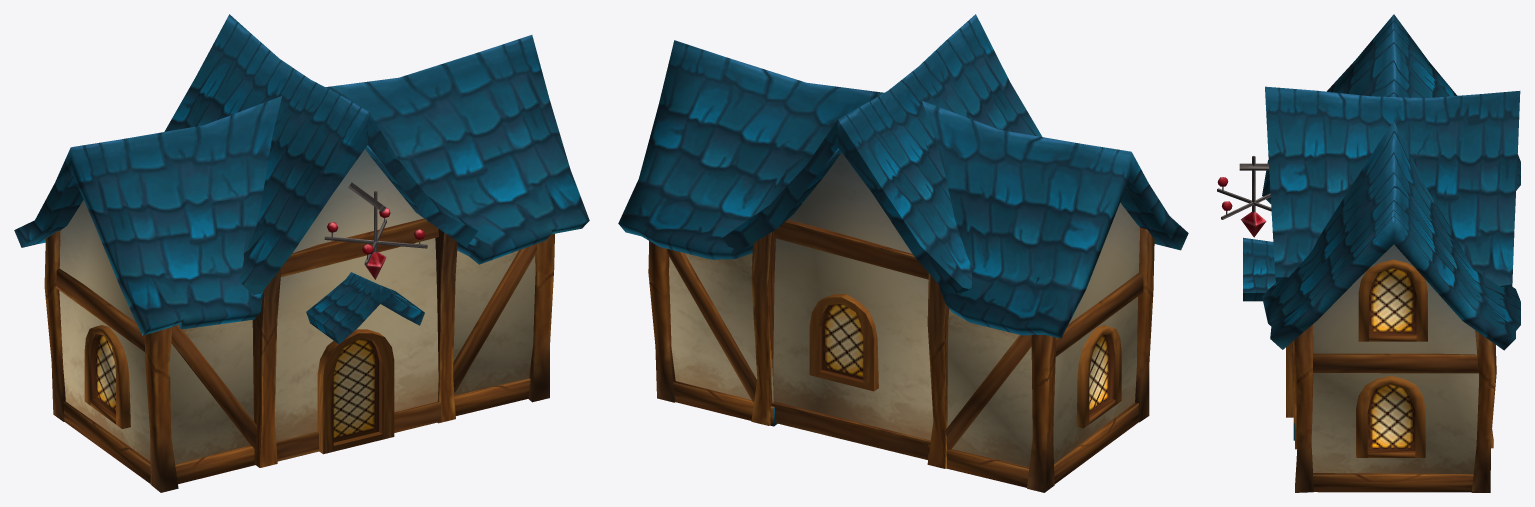
Rendered from building_6_5.FBX.
3 views of the same model, side by side, from view 1: azimuth 30°, elevation 25°; view 2: azimuth 150°, elevation 25°; view 3: azimuth 270°, elevation 25° (orthographic). The views are drawn at different scales.
Visible parts, largest first — view 1: building_6_5; view 2: building_6_5; view 3: building_6_5.
Part boxes in pixels (box(x1,y1,x2,y2)): building_6_5: box(14, 14, 589, 492); building_6_5: box(618, 14, 1188, 492); building_6_5: box(1217, 14, 1520, 492).
Size of the model in its own units: 338 by 242 by 210.
